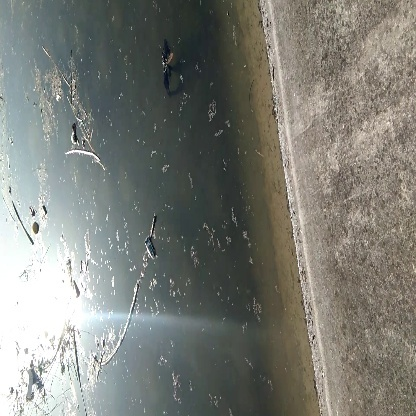branch: (96, 282, 149, 371), (61, 144, 107, 169)
milk-box: (142, 235, 164, 260)
